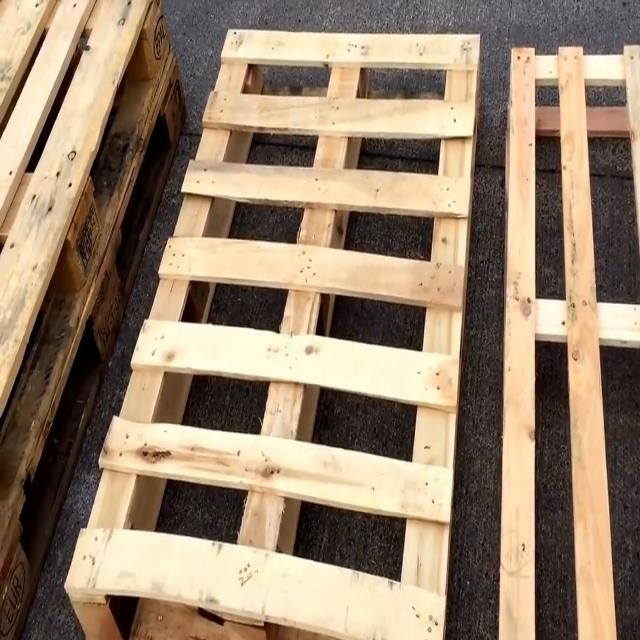Palette: (66, 23, 489, 640), (0, 0, 188, 640), (500, 35, 640, 640)
